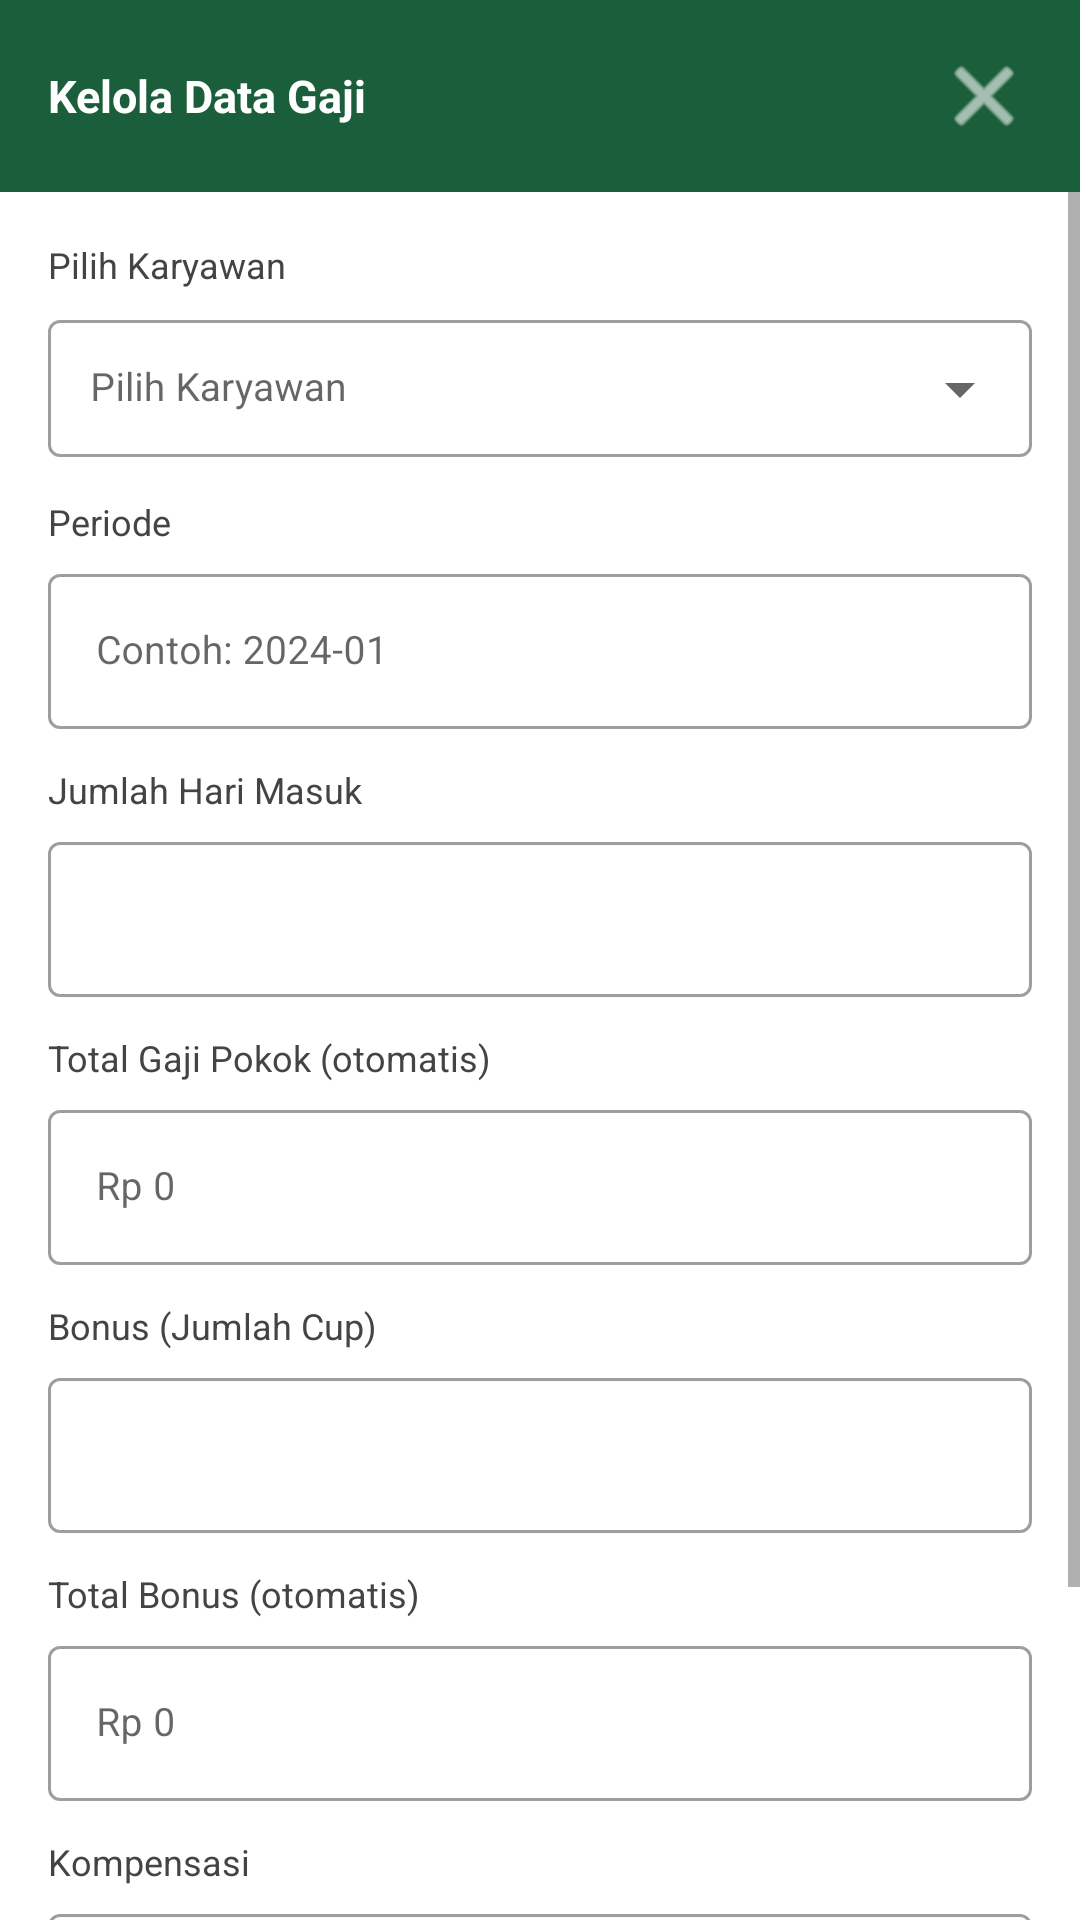

Icons on this 1080×1920 Android screen, each with the point to tap as (x=x, y=y):
close clear cancel: (x=984, y=96)
